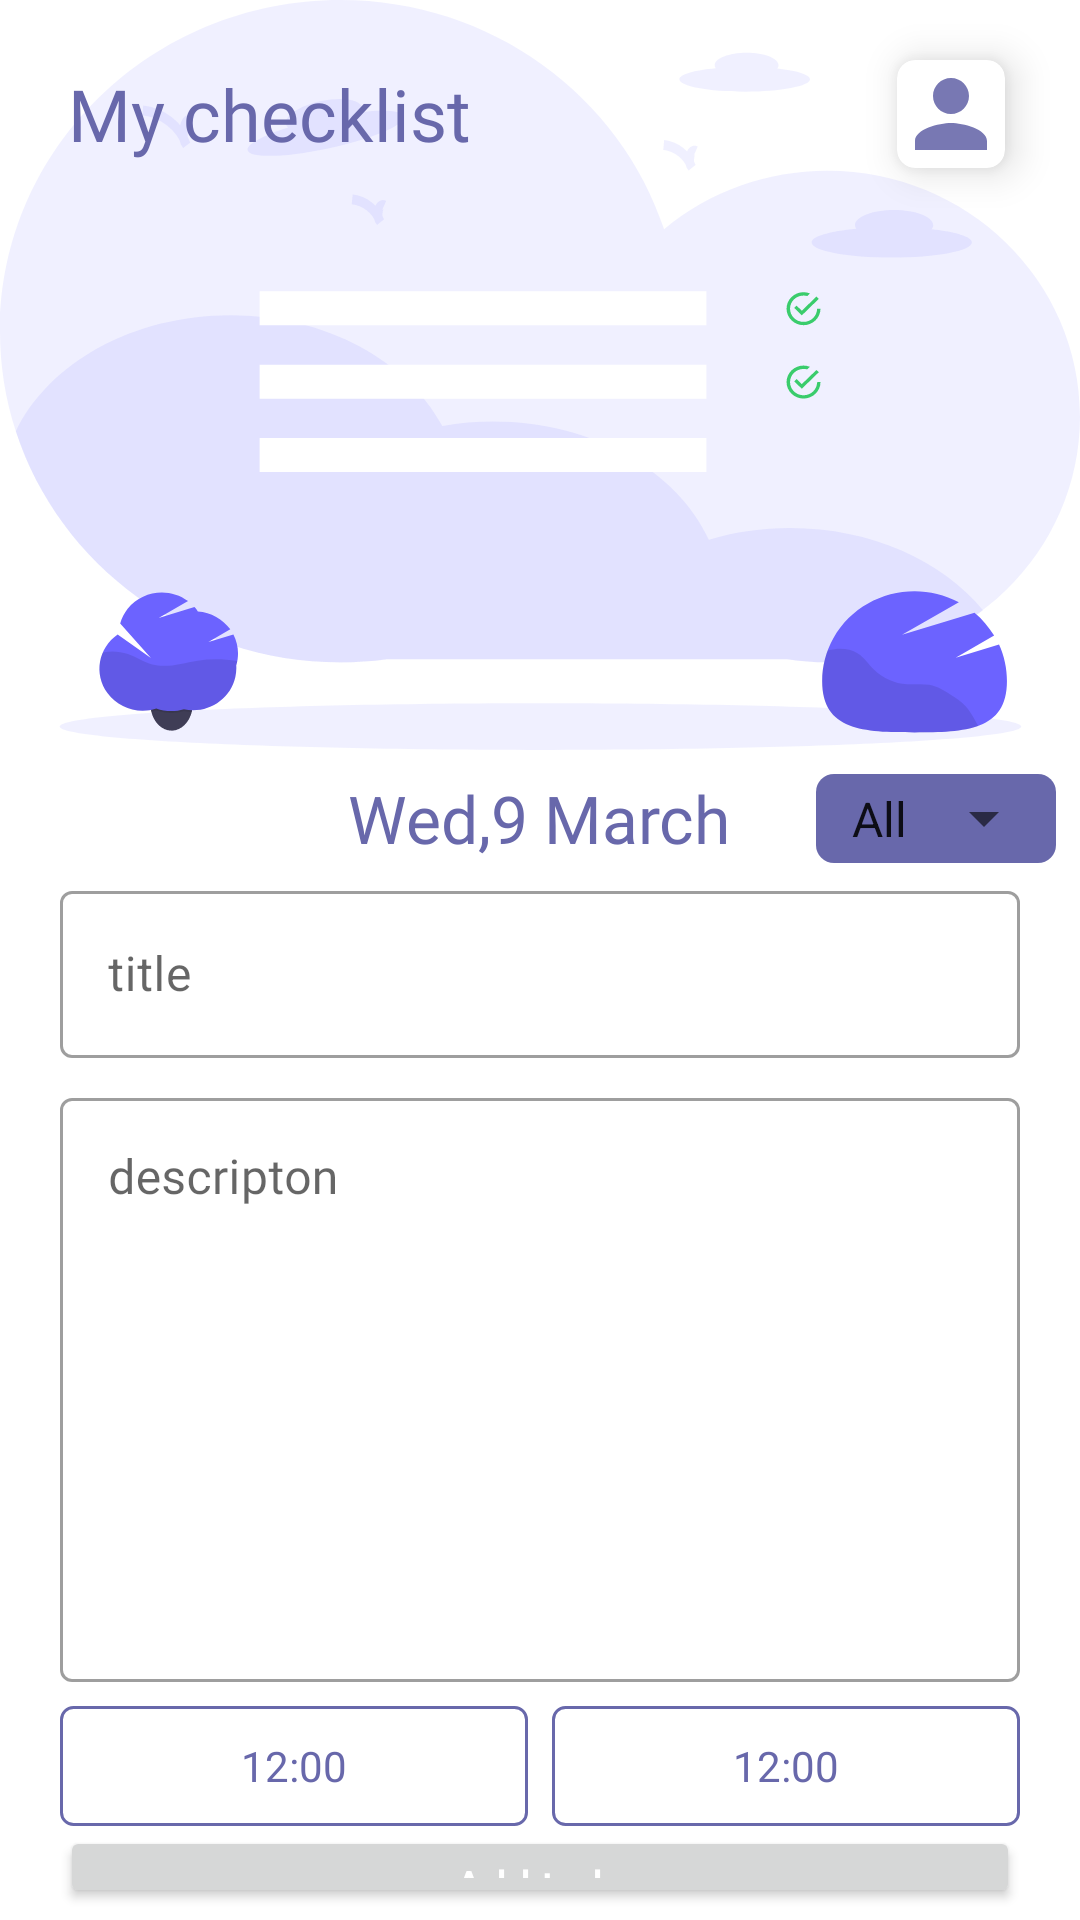

Where icons sit on this 1080x1920 app screen, as (x1,y1,x2,y2):
person: (915,78,987,150)
